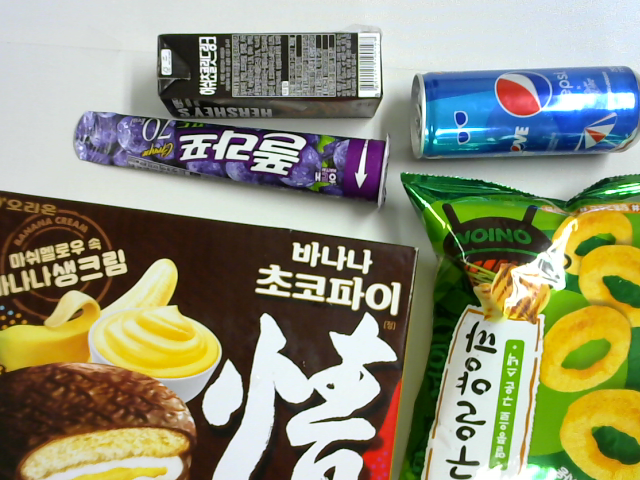Choco_Pie_Banana: (1, 189, 416, 480)
Grilled_Onions: (397, 168, 639, 480)
Hush_Choco_Drink: (154, 28, 390, 119)
Pepsi_Cola_Can_250ml: (413, 65, 640, 156)
Polapo_Grape: (71, 103, 394, 207)
